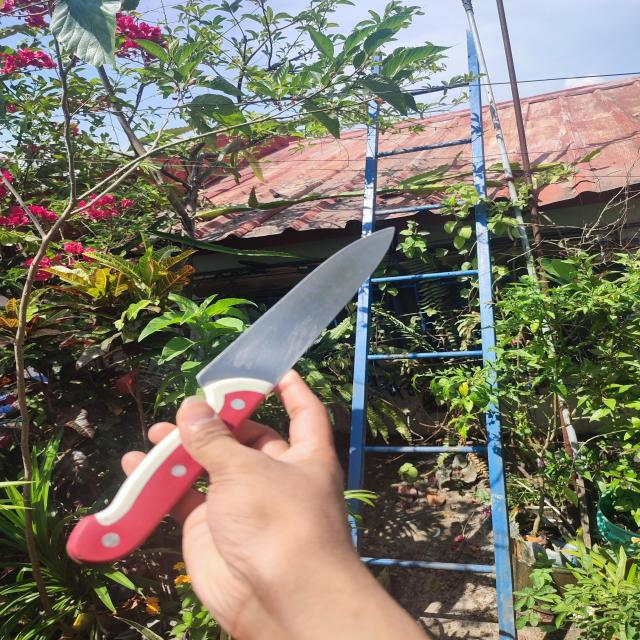knife: (63, 227, 395, 560)
